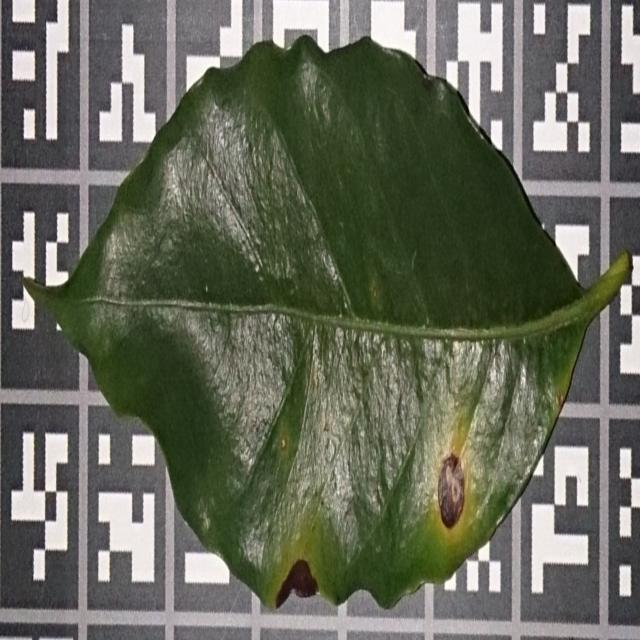Enfermedad-Mancha-de-hierro: (22, 35, 589, 610)
